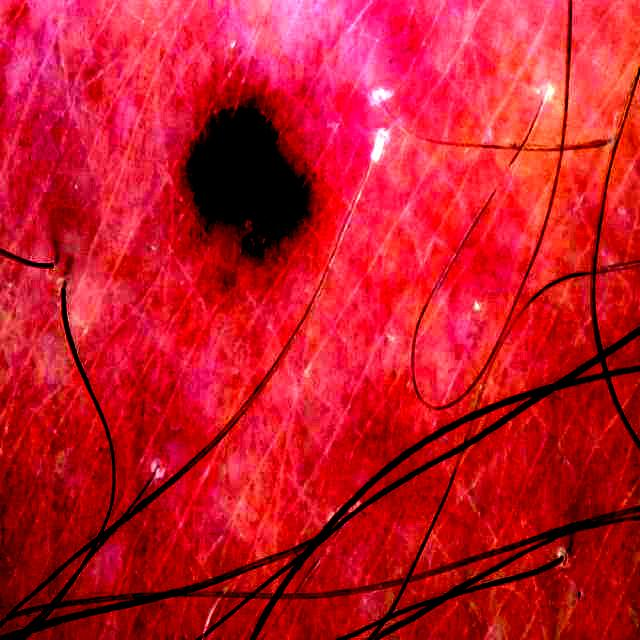NV: (185, 98, 314, 258)
